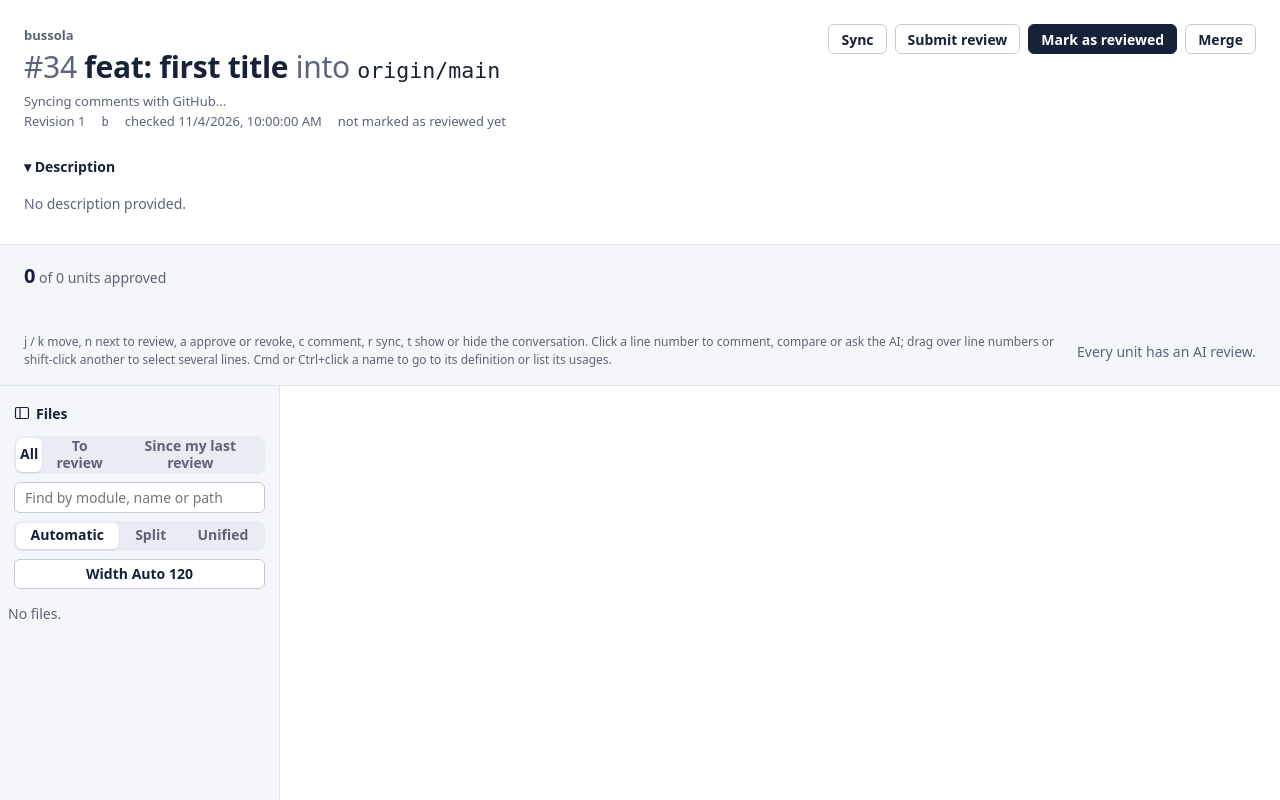
ReviewPage submit review › syncs and marks as reviewed after submitting, sending the review once
Click the button "Submit review". click: (958, 39)
box: [895,24,1020,54]
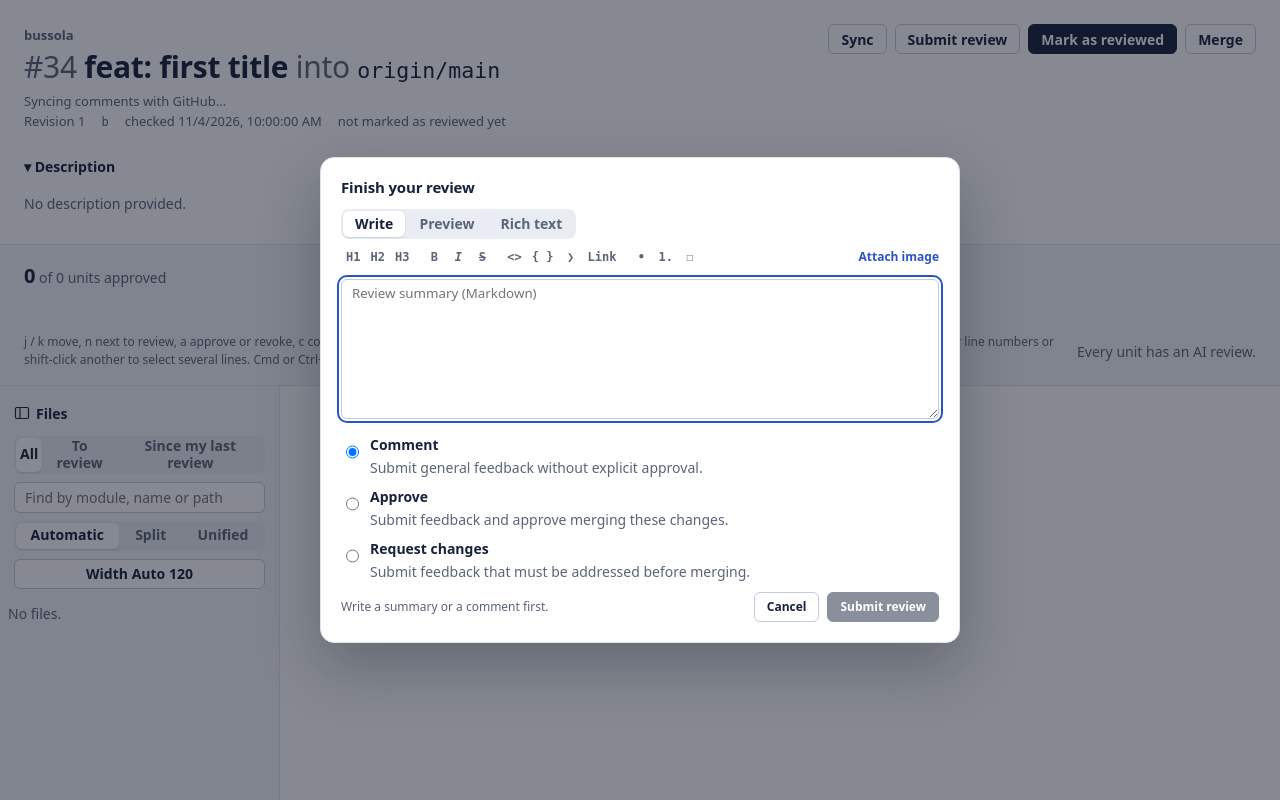
Type "Looks good" into the text box labelled "Review summary (Markdown)". click: (640, 349)
box: [341,279,939,419]
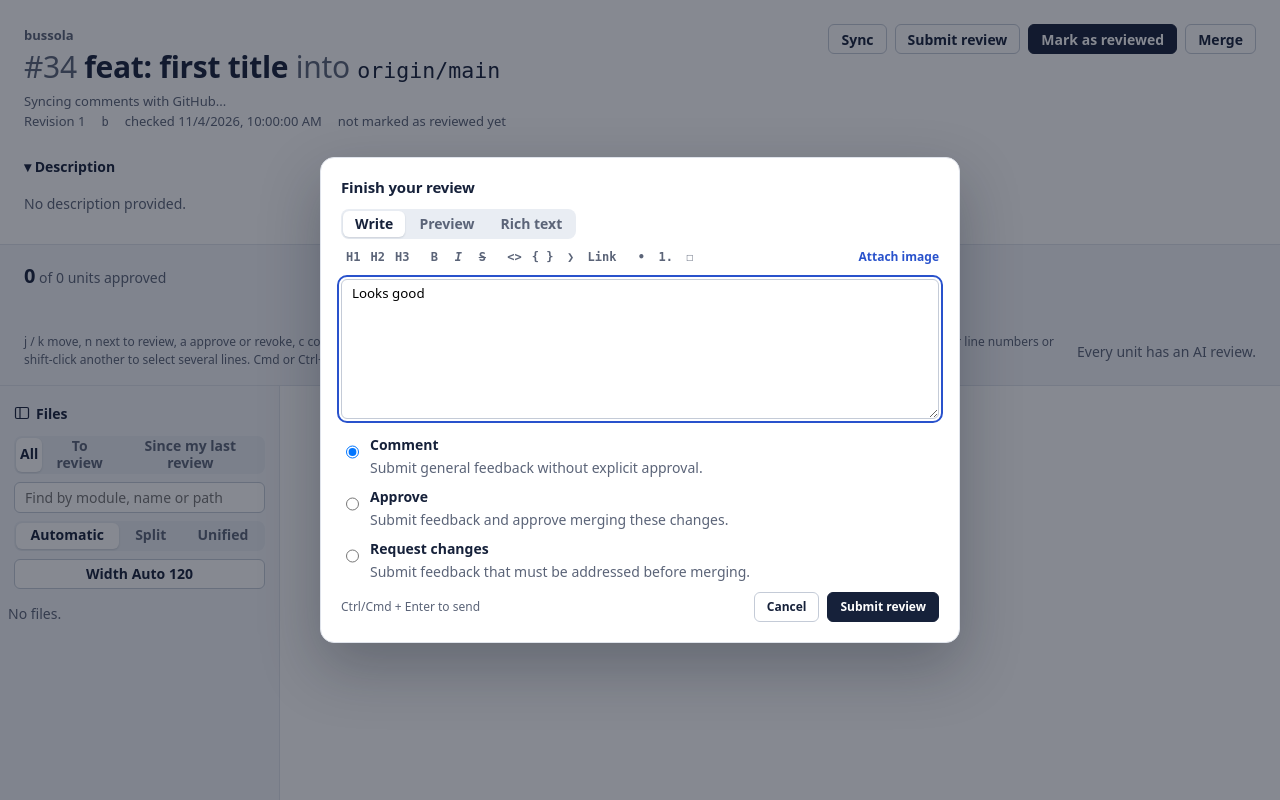
Click the button "Submit review" in the row of "Ctrl/Cmd + Enter to send". click: (883, 607)
box: [828,592,939,622]
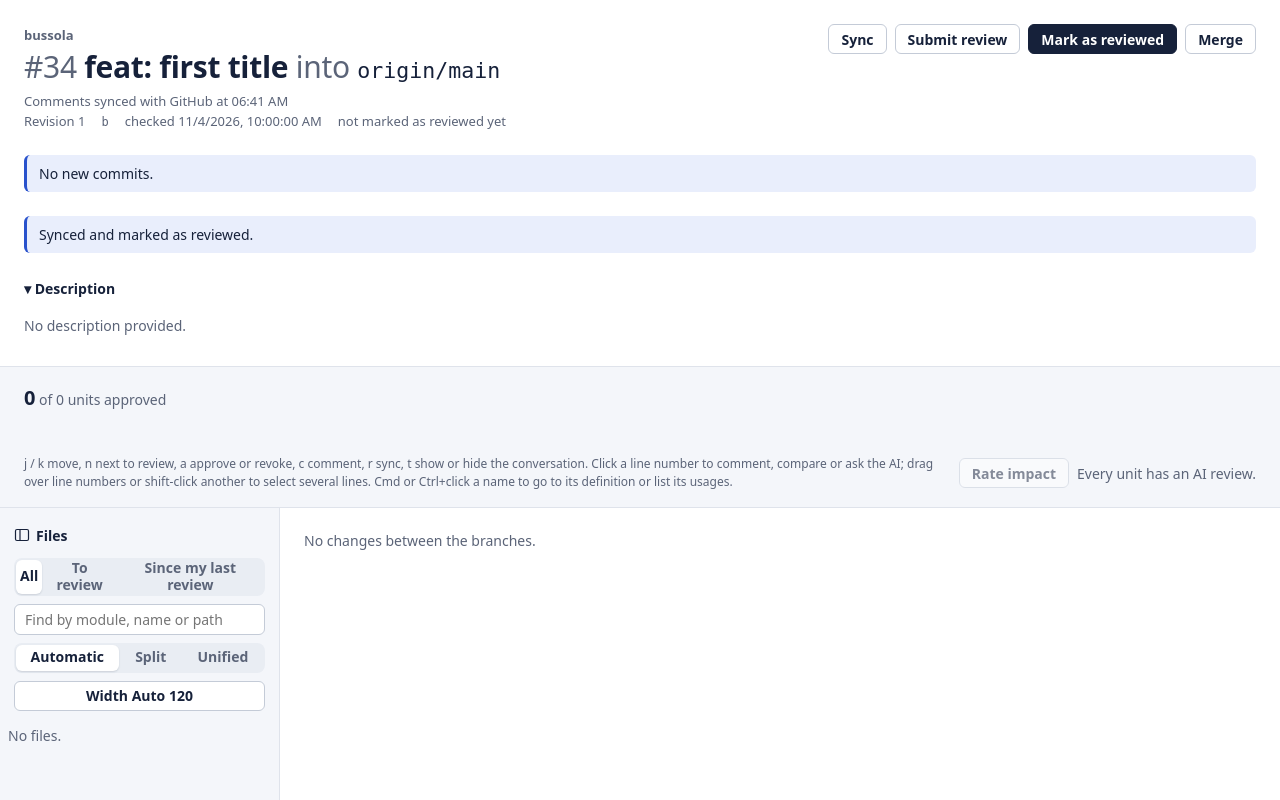
Expected: the text "Synced and marked as reviewed." is shown, [24,216,1256,253]
